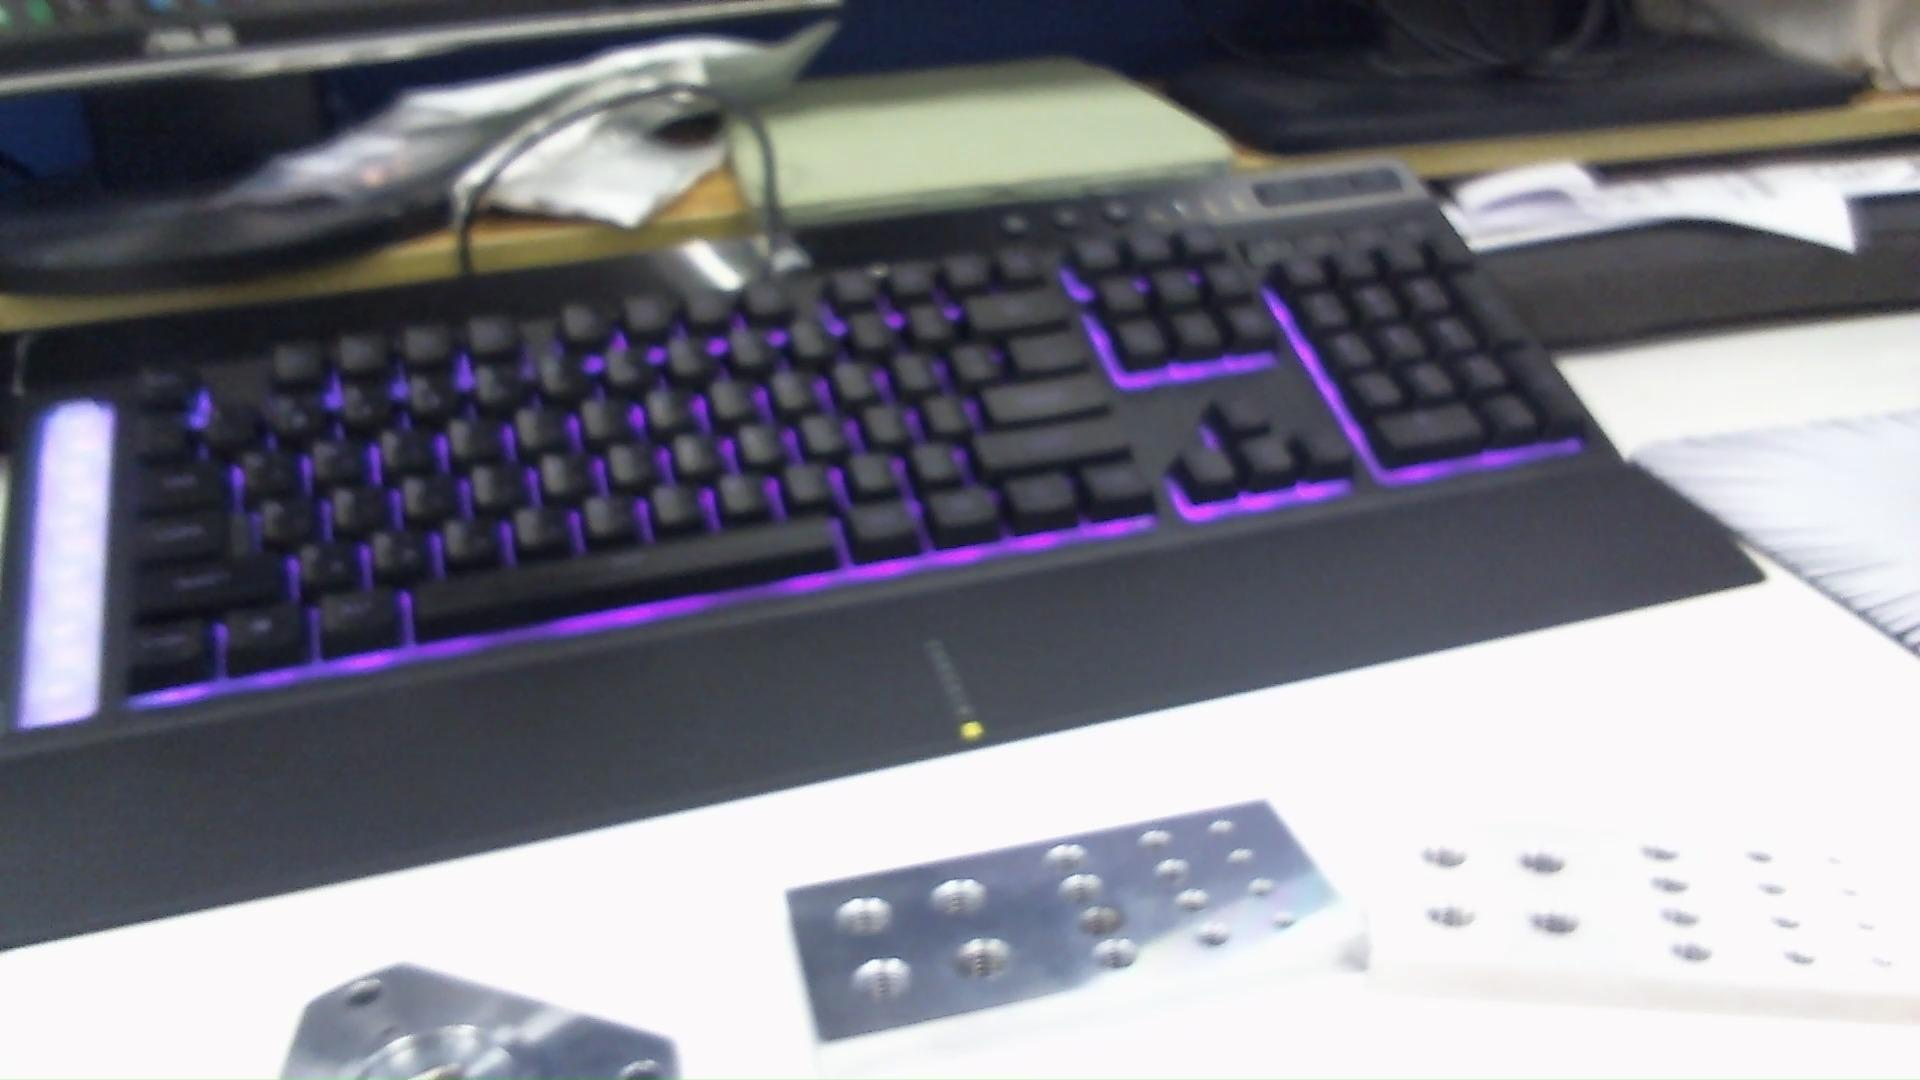hole: (843, 953, 916, 1011), (952, 935, 1022, 996), (828, 891, 901, 947), (926, 873, 994, 926), (1520, 901, 1586, 943), (1072, 903, 1127, 944), (1040, 833, 1098, 872), (1052, 870, 1110, 909), (1087, 936, 1143, 975), (1510, 845, 1568, 881), (1414, 839, 1469, 876), (1663, 936, 1717, 971), (1425, 897, 1474, 934), (1658, 903, 1712, 934), (343, 978, 389, 1013), (1168, 886, 1216, 916), (1639, 839, 1687, 868), (1646, 872, 1697, 897), (620, 1055, 665, 1080), (1153, 855, 1195, 880), (1196, 924, 1232, 953), (1222, 849, 1261, 876), (1138, 825, 1178, 851), (1203, 818, 1242, 843), (1767, 914, 1807, 936), (1782, 948, 1817, 972), (1247, 874, 1279, 901), (1759, 877, 1789, 903), (1742, 848, 1775, 869)
